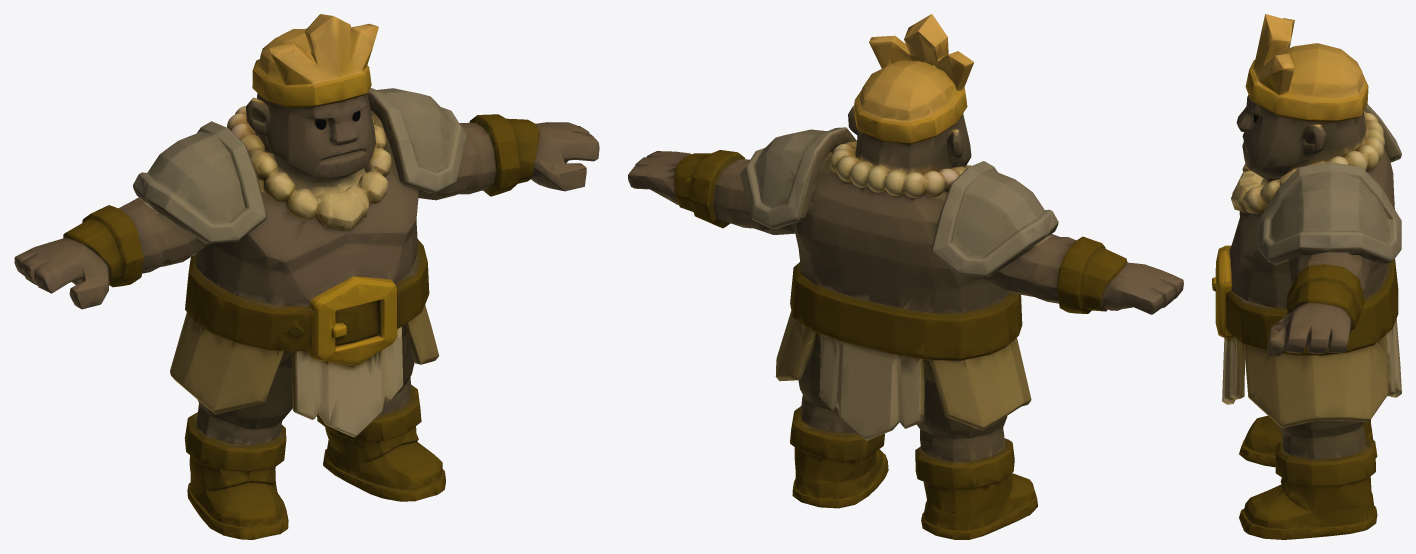
File: Gromp.fbx
3 views of the same model, side by side, from view 1: azimuth 30°, elevation 25°; view 2: azimuth 150°, elevation 25°; view 3: azimuth 270°, elevation 25° (orthographic). The views are drawn at different scales.
Visible parts, largest first — view 1: material; view 2: material; view 3: material.
Boxes of the visible parts, box(x1,y1,x2,y2) form: material: box(14, 14, 599, 539); material: box(628, 14, 1183, 539); material: box(1212, 14, 1401, 539).
Bounding box in the file's own units: 119 × 99.96 × 36.28.
1 material, 1 textured.
